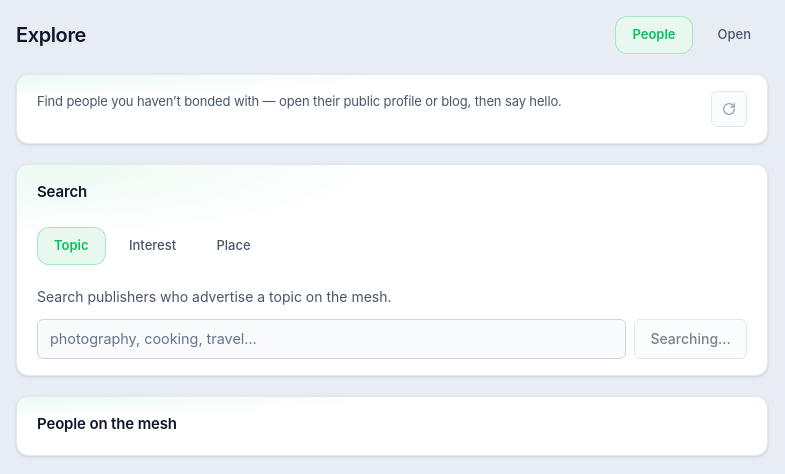
it: BrowserView › enables Go for a valid owner-id URL
Click the tab with test id "browser-mode-open": (734, 35) [700, 16, 768, 54]
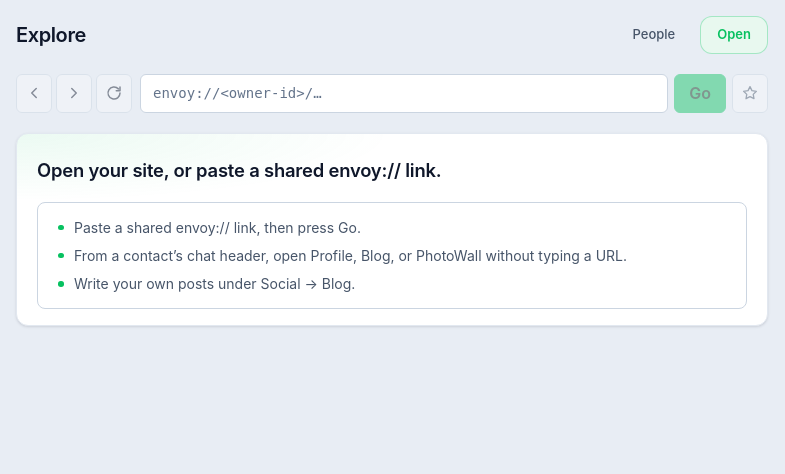
In the field with test id "browser-address-bar": (404, 93) [140, 74, 668, 112], type "envoy://envoy:owner:abc123/posts/hello"
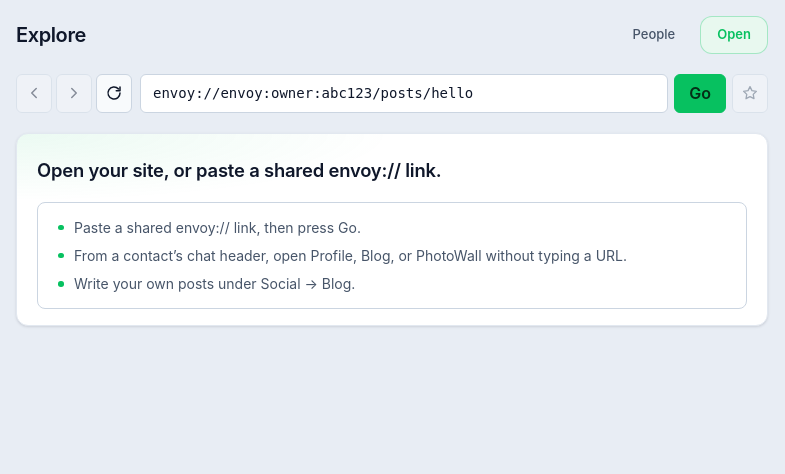
Expected: the button with test id "browser-go" is enabled, [674, 74, 726, 112]
